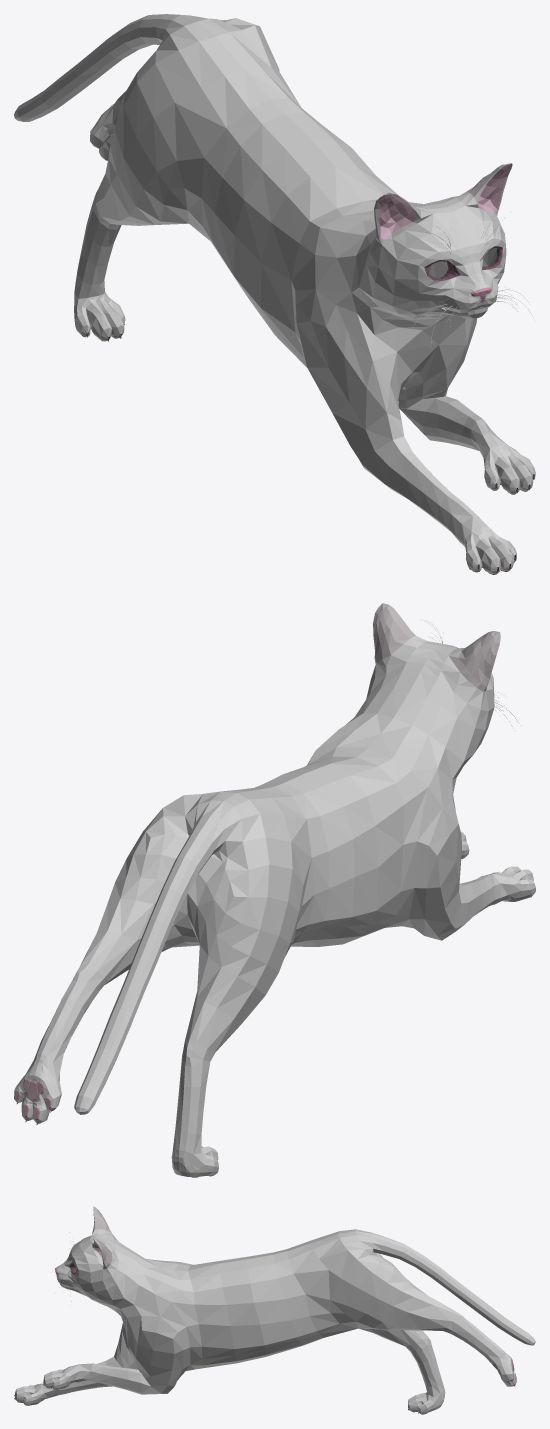
The model's file is Run_F_03.glb.
The picture shows the model from 3 angles, top to bottom: view 1: azimuth 30°, elevation 25°; view 2: azimuth 150°, elevation 25°; view 3: azimuth 270°, elevation 25°; orthographic projection. The views are drawn at different scales.
Parts seen in each view (by area): view 1: Run_F_03; view 2: Run_F_03; view 3: Run_F_03.
Boxes of the visible parts, x1=… form: Run_F_03: x1=14, y1=14, x2=535, y2=574; Run_F_03: x1=14, y1=603, x2=535, y2=1177; Run_F_03: x1=14, y1=1206, x2=535, y2=1414.
Size of the model in its own units: 0.1434 by 0.3229 by 0.7708.
1 material, 1 textured.
